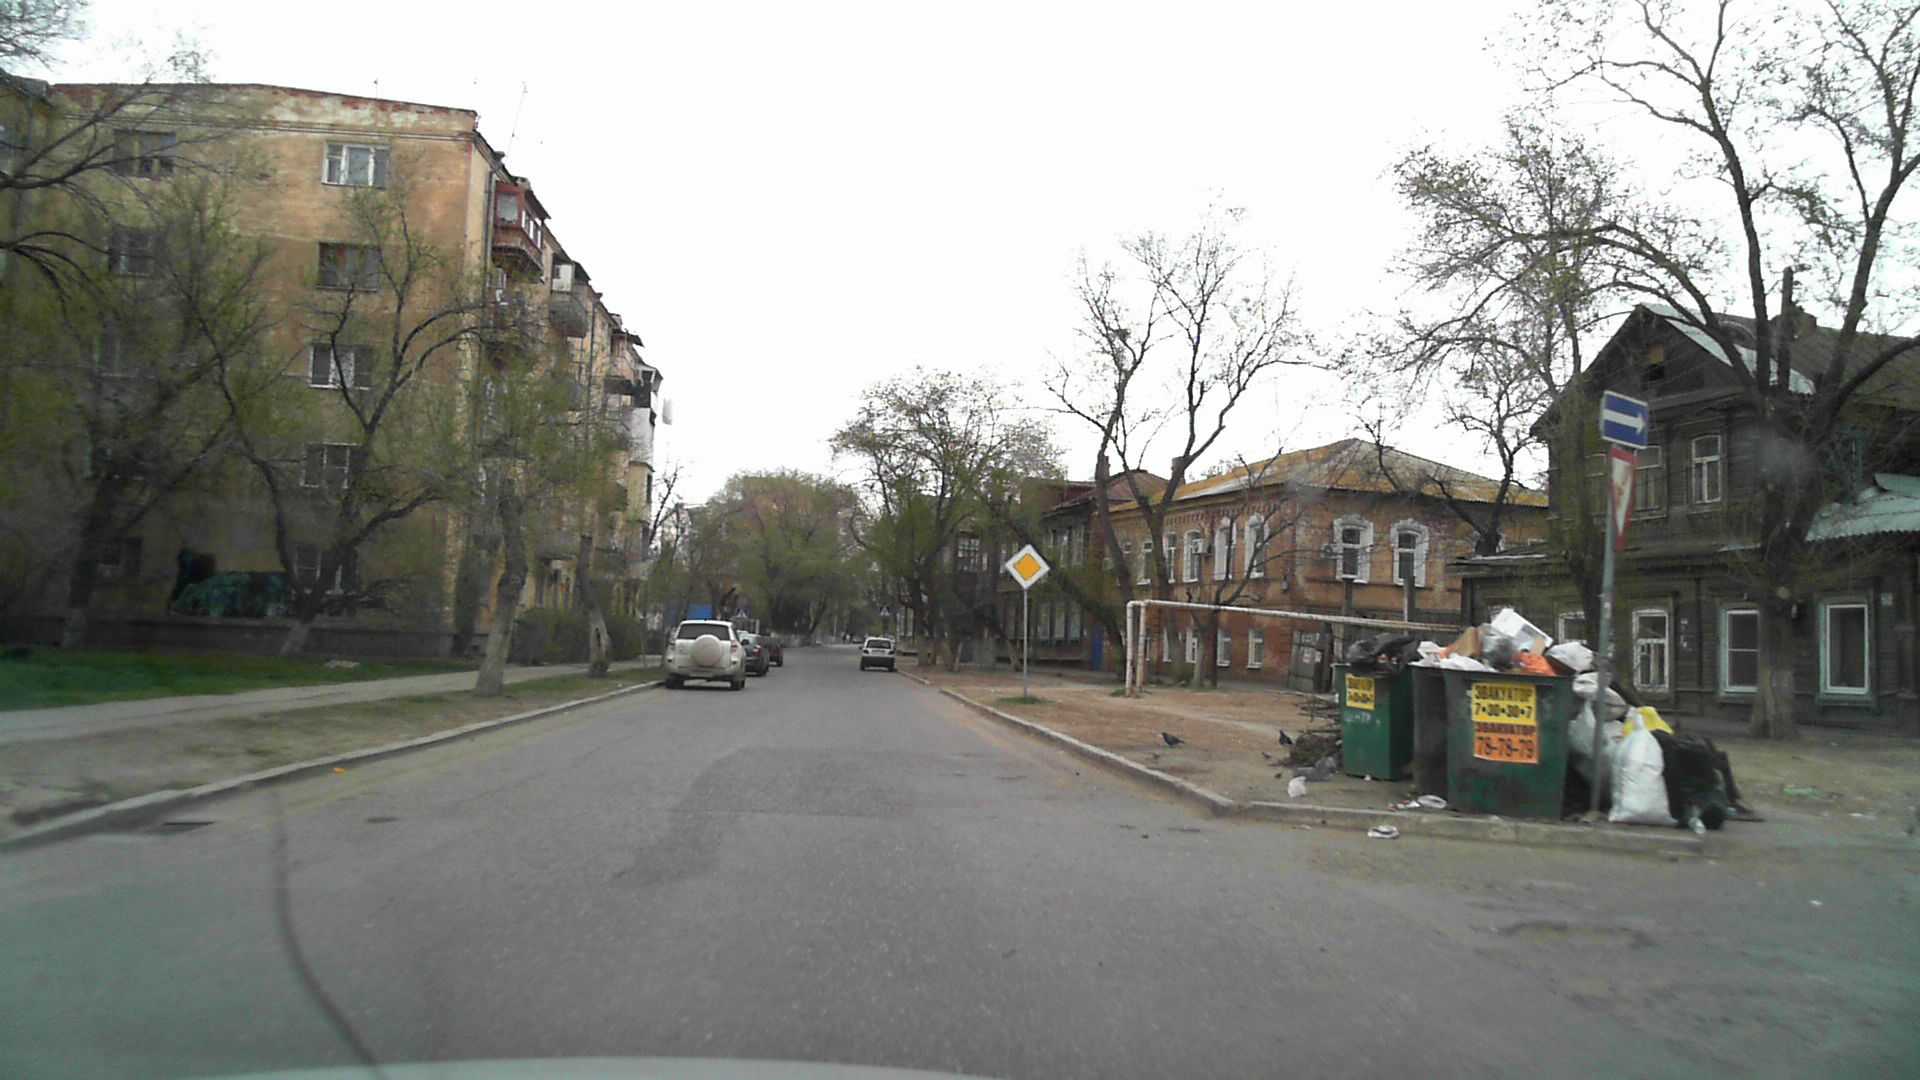One-Way Traffic: (1604, 392, 1648, 448)
